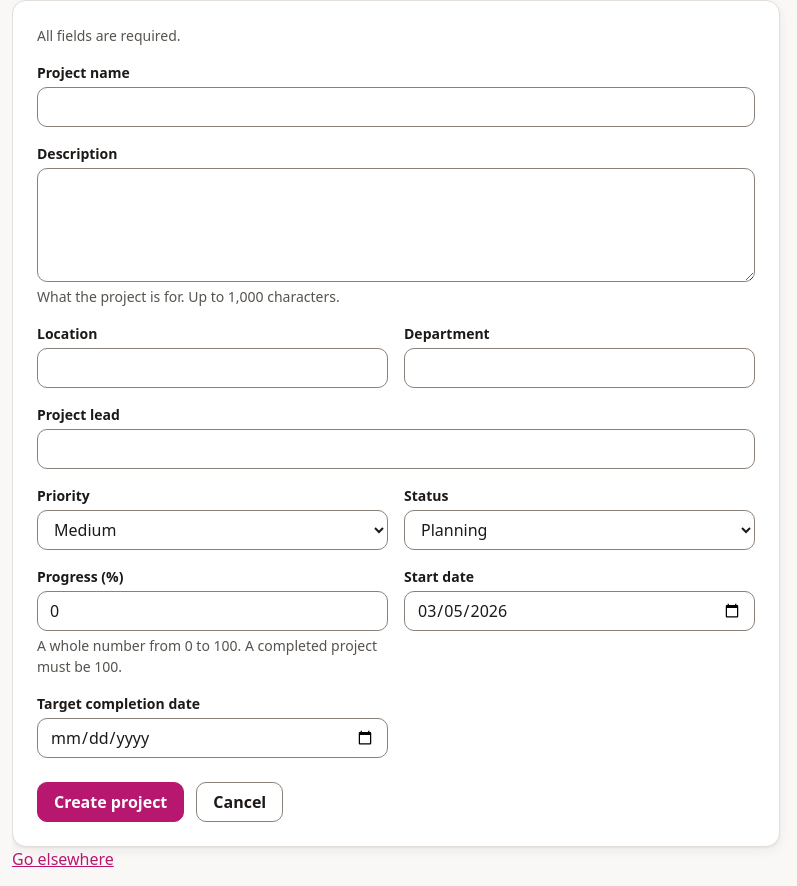
Test case: ProjectForm validation › shows an error summary and field messages, and does not submit
This screenshot has width=797, height=886.
Click the button "Create project". click: (111, 802)
box: [37,782,184,822]
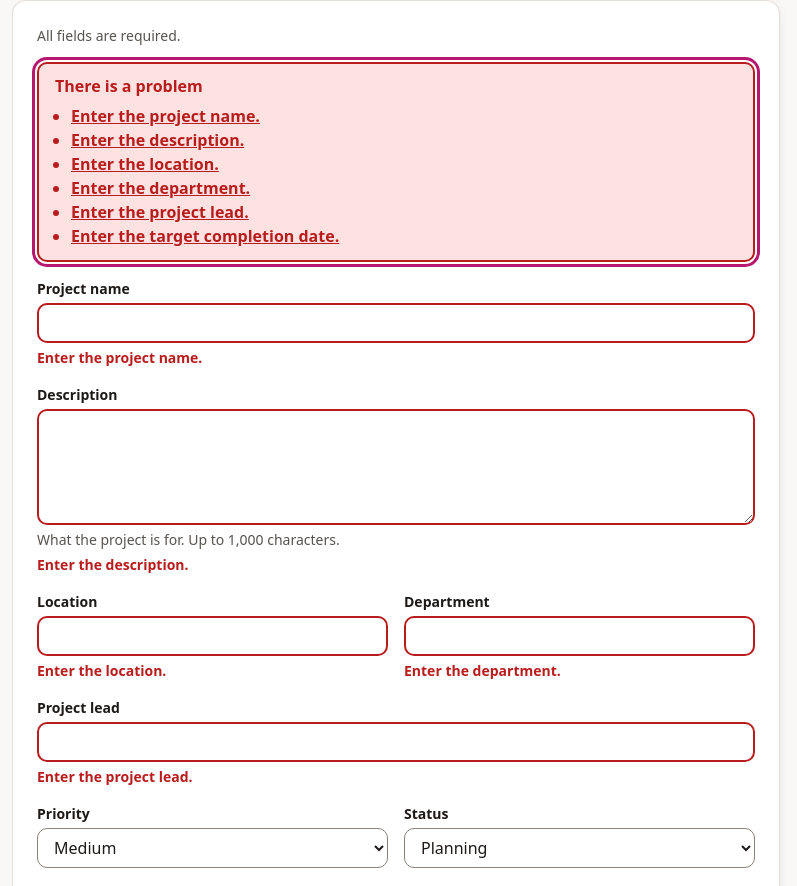
expect the heading "There is a problem" is shown: met, box [55,75,203,97]
expect the link "Enter the project name." is shown: met, box [71,105,260,127]
expect the link "Enter the target completion date." is shown: met, box [71,225,339,247]
